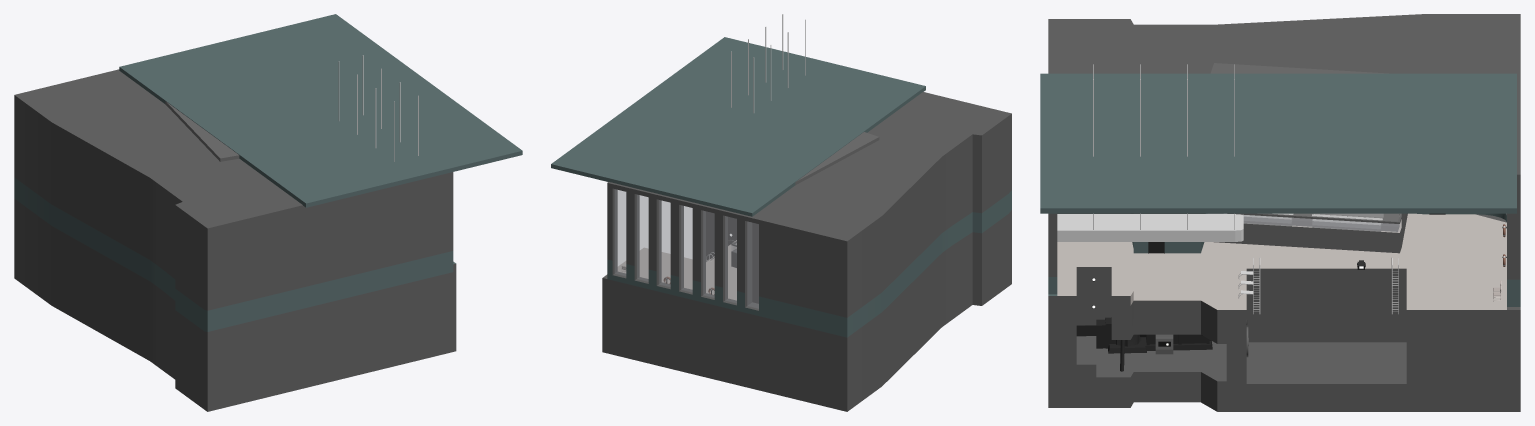
Rendered from OfficialPoolScene.fbx.
The picture shows the model from 3 angles, left to right: view 1: azimuth 30°, elevation 25°; view 2: azimuth 150°, elevation 25°; view 3: azimuth 270°, elevation 25°; orthographic projection. The views are drawn at different scales.
Visible parts, largest first — view 1: Base, Cube.017, Audience, Cube.006; view 2: Base, Cube.017, Cube.018, Audience, Cube.006; view 3: Base, Cube.017, Audience, Cube.004, Circle, Cube.001, Cube.002, Cube.006.
Boxes of the visible parts, bbox=[...] form: Base: bbox=[14, 69, 456, 411]; Cube.017: bbox=[119, 14, 522, 207]; Audience: bbox=[165, 101, 239, 161]; Cube.006: bbox=[338, 55, 418, 161]; Base: bbox=[602, 92, 1011, 411]; Cube.017: bbox=[551, 37, 925, 216]; Cube.018: bbox=[614, 189, 758, 308]; Audience: bbox=[731, 132, 879, 267]; Cube.006: bbox=[731, 14, 805, 113]; Base: bbox=[1048, 14, 1520, 411]; Cube.017: bbox=[1040, 73, 1516, 213]; Audience: bbox=[1206, 63, 1407, 253]; Cube.004: bbox=[1057, 214, 1243, 241]; Circle: bbox=[1076, 317, 1212, 353]; Cube.001: bbox=[1312, 213, 1383, 231]; Cube.002: bbox=[1224, 213, 1293, 226]; Cube.006: bbox=[1093, 64, 1234, 229].
Size of the model in its own units: 7471 by 5519 by 7611.
